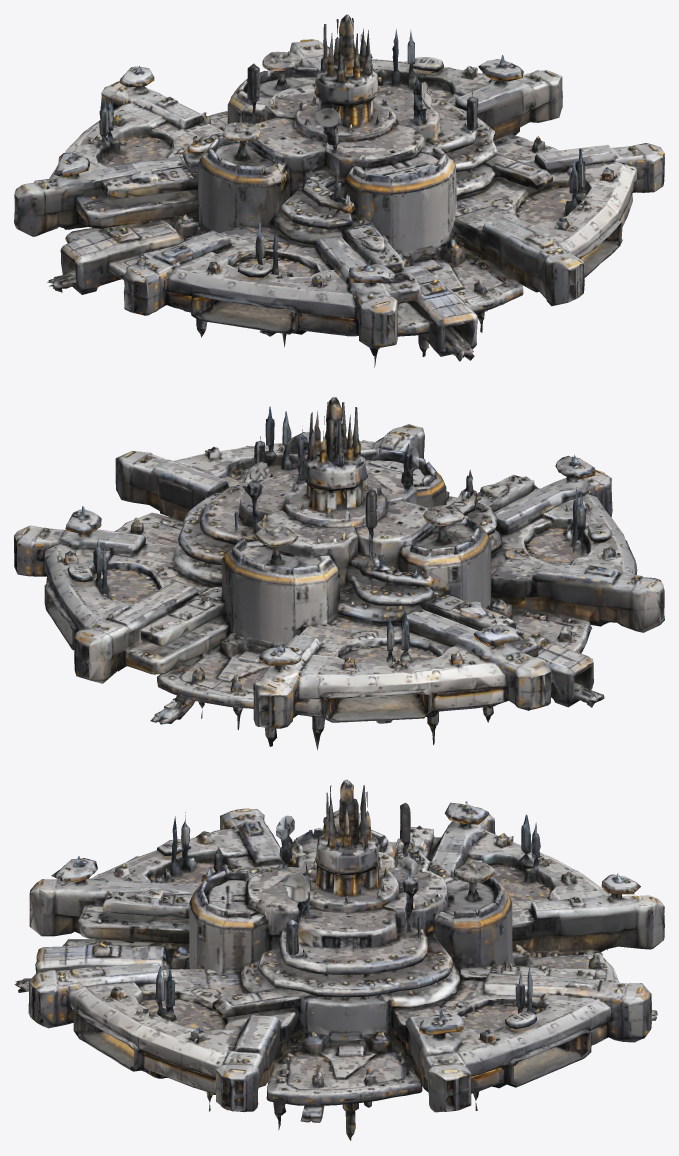
File: st3d_beta7_pathfinder.glb
The picture shows the model from 3 angles, top to bottom: view 1: azimuth 30°, elevation 25°; view 2: azimuth 150°, elevation 25°; view 3: azimuth 270°, elevation 25°; orthographic projection. The views are drawn at different scales.
Parts seen in each view (by area): view 1: HOMELANCER_Station3D_Beta7-PathfinderDepot_v1; view 2: HOMELANCER_Station3D_Beta7-PathfinderDepot_v1; view 3: HOMELANCER_Station3D_Beta7-PathfinderDepot_v1.
Boxes of the visible parts, left/top/right/bottom form: HOMELANCER_Station3D_Beta7-PathfinderDepot_v1: left=14, top=14, right=664, bottom=367; HOMELANCER_Station3D_Beta7-PathfinderDepot_v1: left=14, top=397, right=664, bottom=750; HOMELANCER_Station3D_Beta7-PathfinderDepot_v1: left=14, top=779, right=664, bottom=1140.
Size of the model in its own units: 0.9796 by 0.5368 by 0.9789.
Materials: 1 (1 with a texture image).
